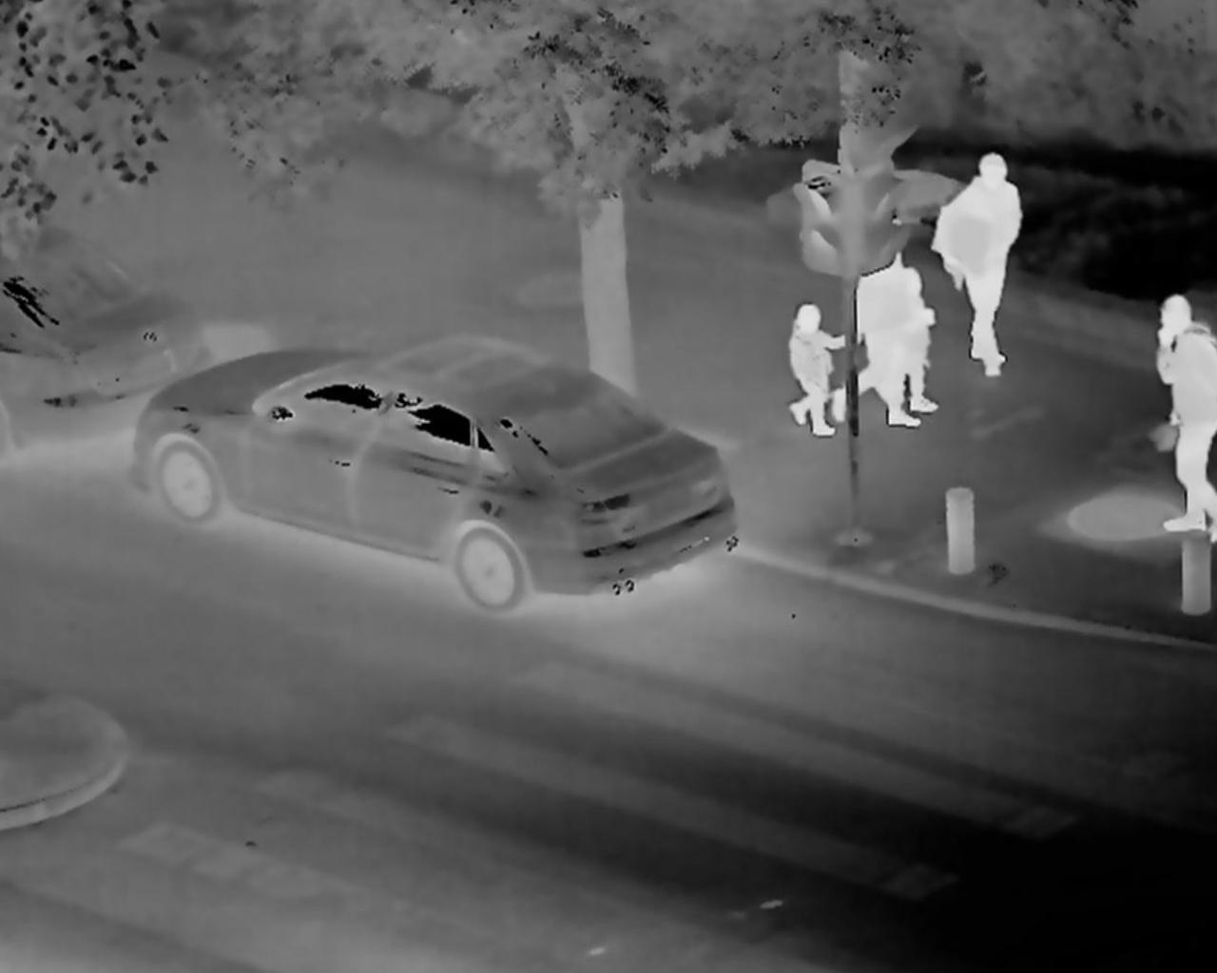person: (932, 152, 1022, 376), (1143, 286, 1217, 529), (854, 237, 909, 430), (785, 309, 841, 439), (894, 273, 939, 410)
